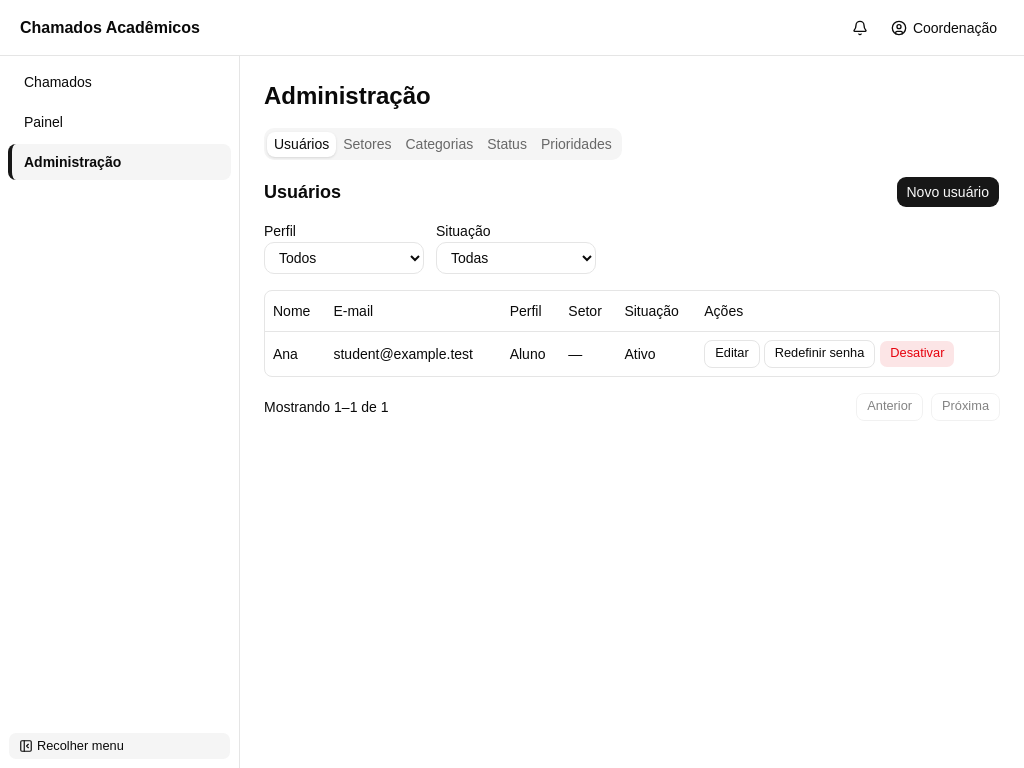
Test: AdminPage (Tela 8, US4.1, US4.2) › loads categories and priorities when their tabs are opened
Click the tab "Categorias" at (439,144), box x1=398 y1=132 x2=480 y2=156
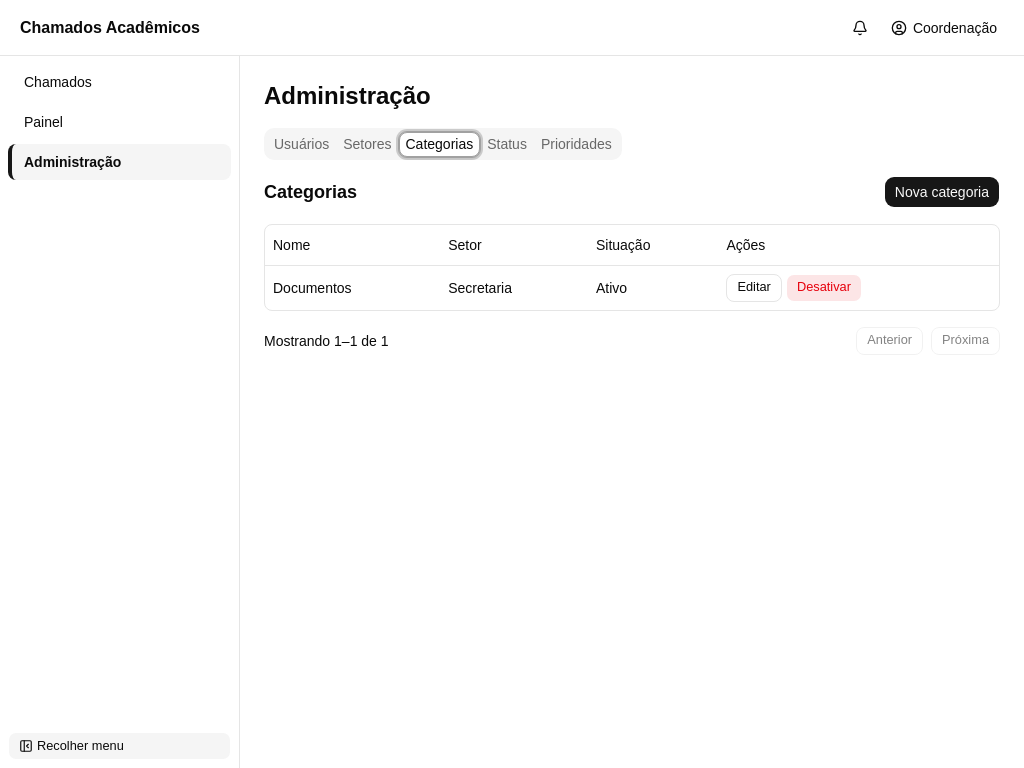
Expected: the cell "Documentos" is shown, x1=265 y1=265 x2=440 y2=310
Click the tab "Prioridades" at (576,144), box x1=534 y1=132 x2=619 y2=156
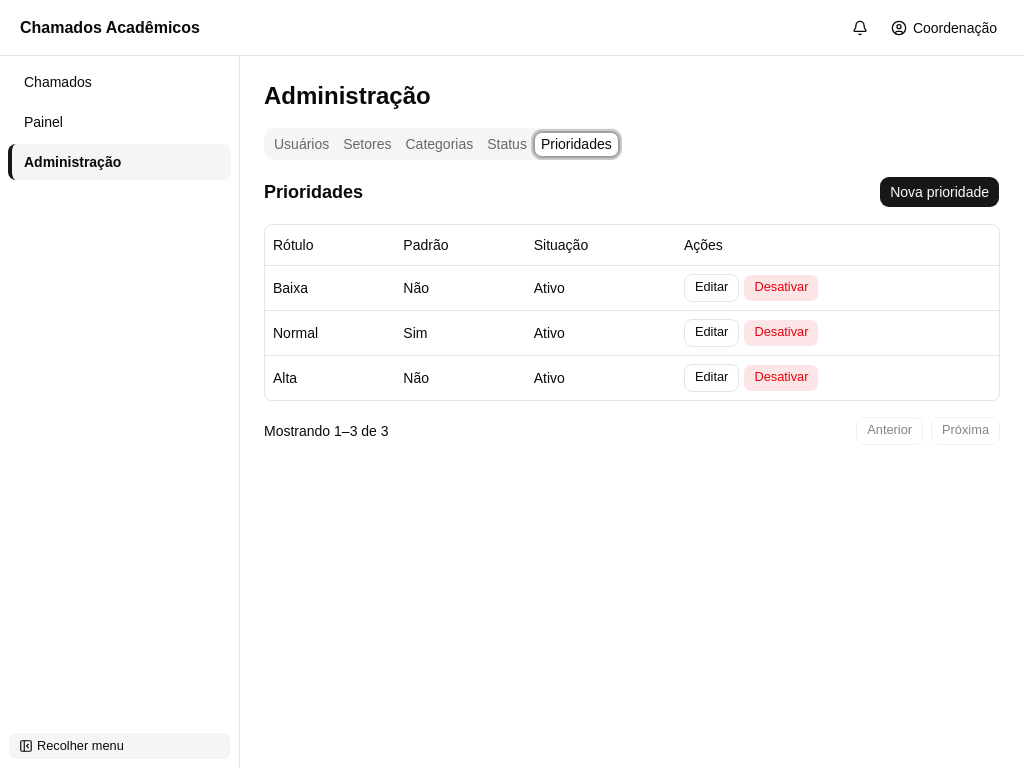
Expected: the cell "Normal" is shown, x1=265 y1=310 x2=395 y2=355
